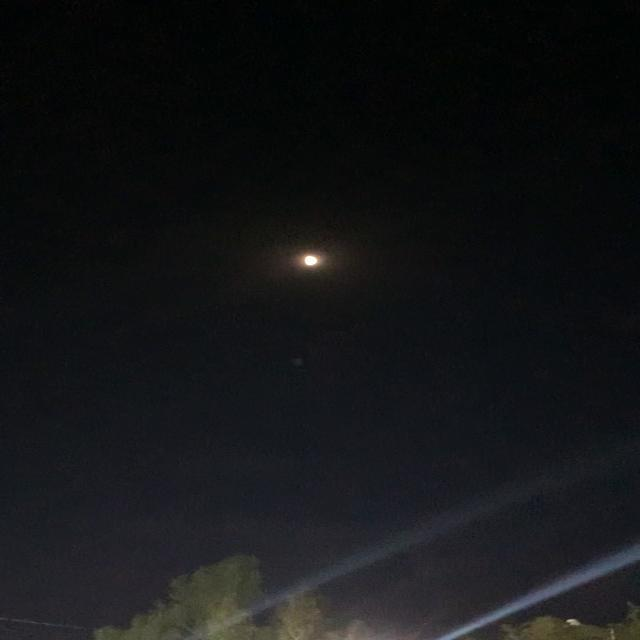moon: (302, 248, 340, 275)
